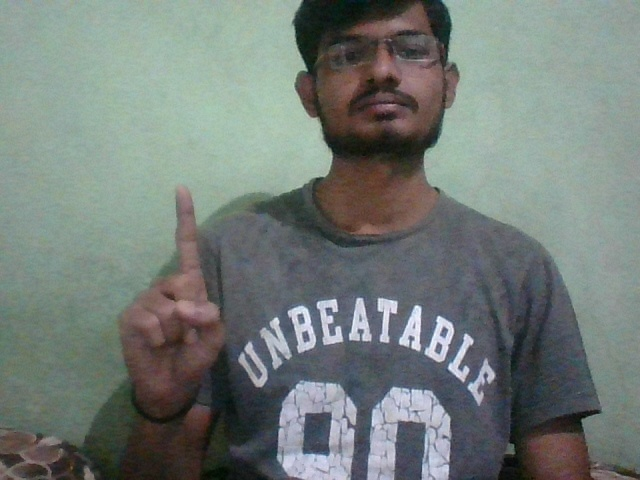where: (86, 174, 256, 392)
